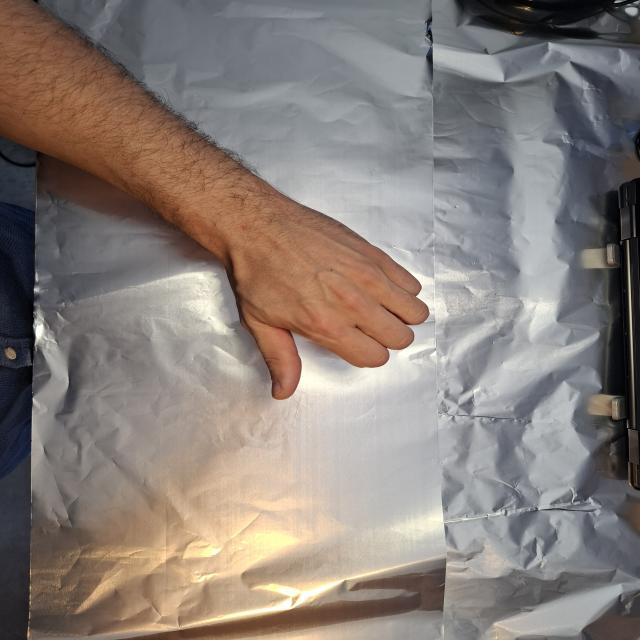glove_off: (206, 196, 433, 403)
